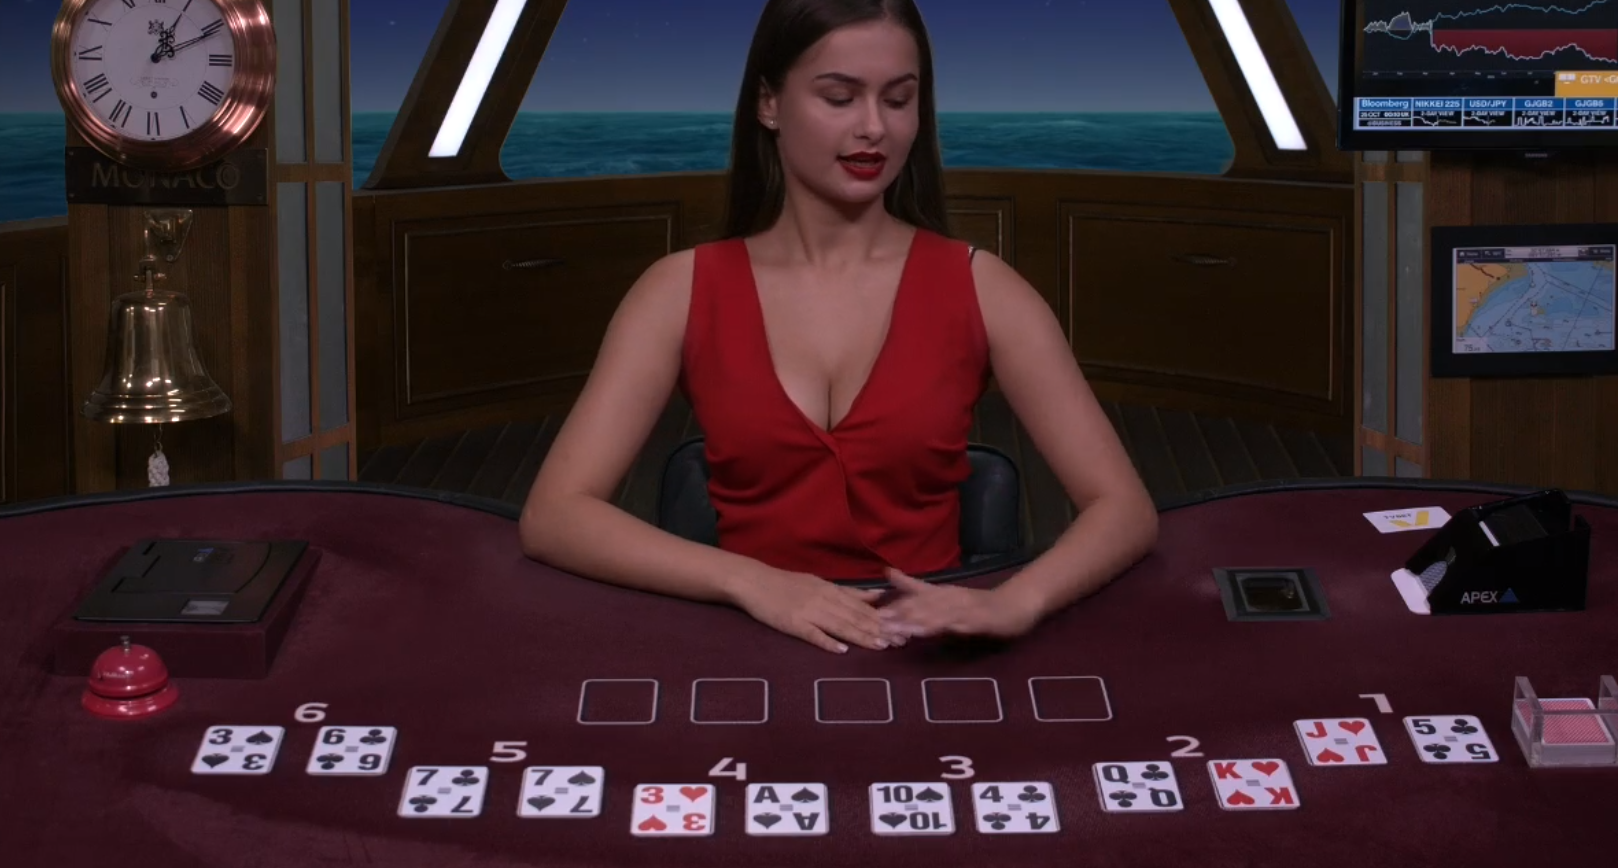10s: (863, 775, 965, 841)
3h: (624, 777, 723, 844)
3s: (188, 715, 288, 782)
4c: (966, 774, 1070, 841)
5c: (1394, 706, 1508, 773)
6c: (307, 719, 400, 785)
7c: (404, 758, 492, 825)
7s: (516, 753, 613, 823)
ass: (743, 774, 840, 844)
jh: (1287, 711, 1392, 773)
kh: (1195, 752, 1302, 817)
qc: (1087, 752, 1191, 821)
